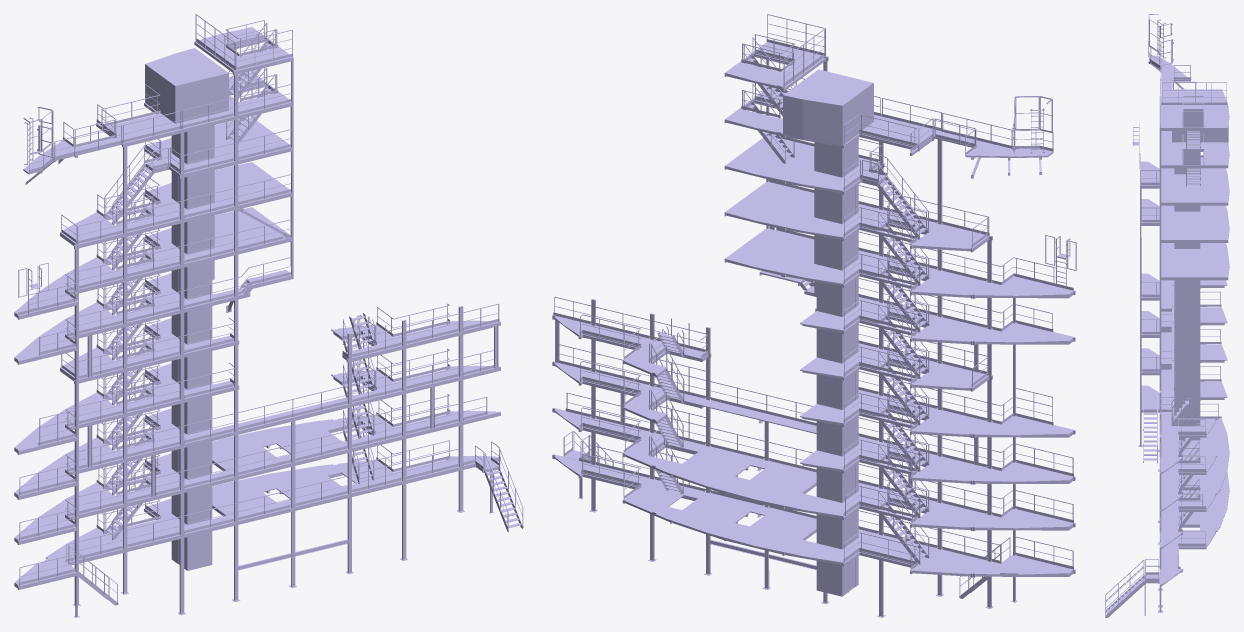
The model's file is Cavern-HO-SideC-cut3.glb.
3 renders of one model, left to right at view 1: azimuth 30°, elevation 25°; view 2: azimuth 150°, elevation 25°; view 3: azimuth 270°, elevation 25°, orthographic. The views are drawn at different scales.
Visible parts, largest first — view 1: S__000001C694A5E6D0; view 2: S__000001C694A5E6D0; view 3: S__000001C694A5E6D0.
Boxes of the visible parts, bbox=[...] form: S__000001C694A5E6D0: bbox=[14, 14, 523, 617]; S__000001C694A5E6D0: bbox=[552, 14, 1076, 617]; S__000001C694A5E6D0: bbox=[1105, 14, 1229, 617].
Bounding box in the file's own units: 28.74 × 30.9 × 7.56.
